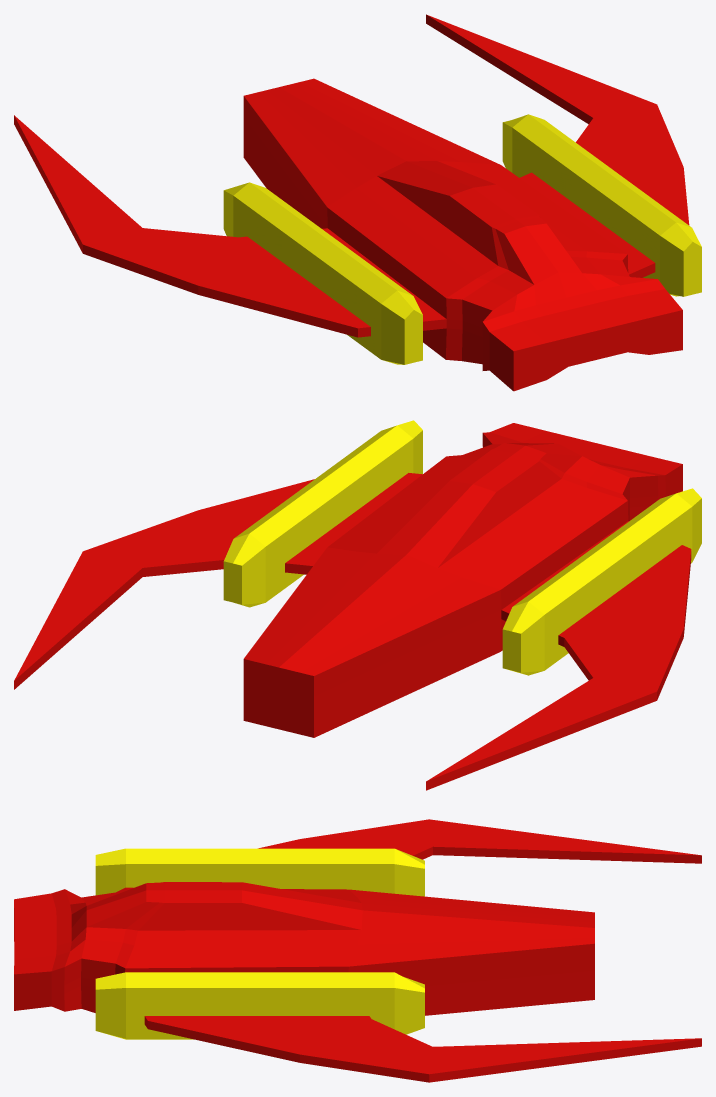
The model's file is Mesh_Player_Ship_model_002.fbx.
The picture shows the model from 3 angles, top to bottom: view 1: azimuth 30°, elevation 25°; view 2: azimuth 150°, elevation 25°; view 3: azimuth 270°, elevation 25°; orthographic projection. The views are drawn at different scales.
Visible parts, largest first — view 1: M_Ship_Base_001, M_Ship_Propulsor_002; view 2: M_Ship_Base_001, M_Ship_Propulsor_002; view 3: M_Ship_Base_001, M_Ship_Propulsor_002.
Part boxes in pixels (bbox=[...]): M_Ship_Base_001: bbox=[14, 14, 689, 391]; M_Ship_Propulsor_002: bbox=[223, 114, 701, 364]; M_Ship_Base_001: bbox=[14, 423, 691, 790]; M_Ship_Propulsor_002: bbox=[223, 420, 701, 675]; M_Ship_Base_001: bbox=[14, 819, 701, 1082]; M_Ship_Propulsor_002: bbox=[95, 848, 424, 1039].
Bounding box in the file's own units: 1052 × 181 × 1200.
